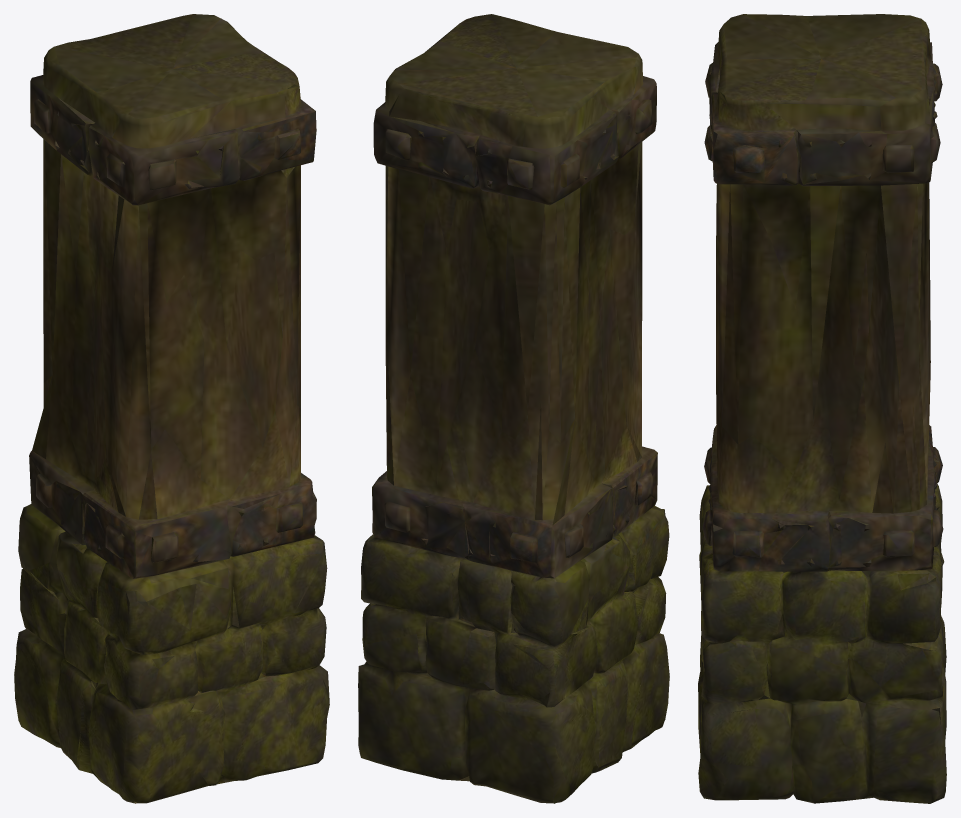
File: prison-pillar.glb
3 views of the same model, side by side, from view 1: azimuth 30°, elevation 25°; view 2: azimuth 150°, elevation 25°; view 3: azimuth 270°, elevation 25° (orthographic). The views are drawn at different scales.
Size of the model in its own units: 0.6374 by 2 by 0.6448.
Materials: 1 (1 with a texture image).
